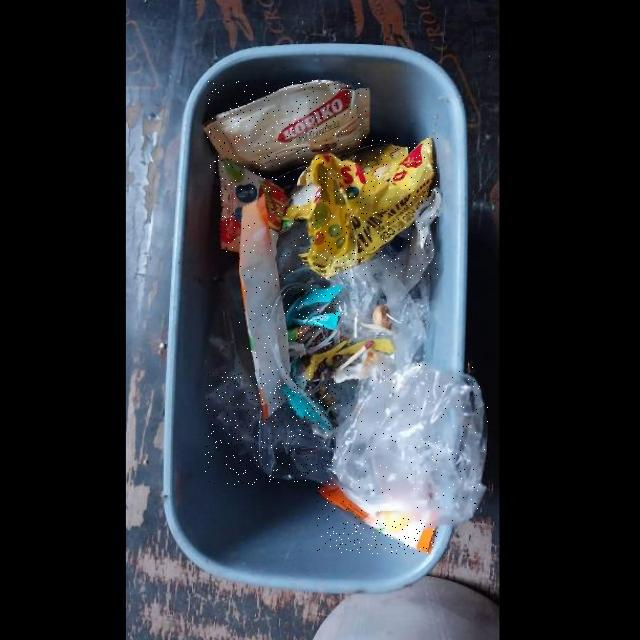plastic: (333, 363, 488, 523), (205, 373, 335, 485)
wrapper: (282, 139, 438, 279), (207, 81, 369, 175), (240, 196, 291, 423), (318, 488, 438, 554), (219, 158, 287, 257), (287, 285, 343, 330), (283, 386, 332, 431), (289, 325, 314, 342)
